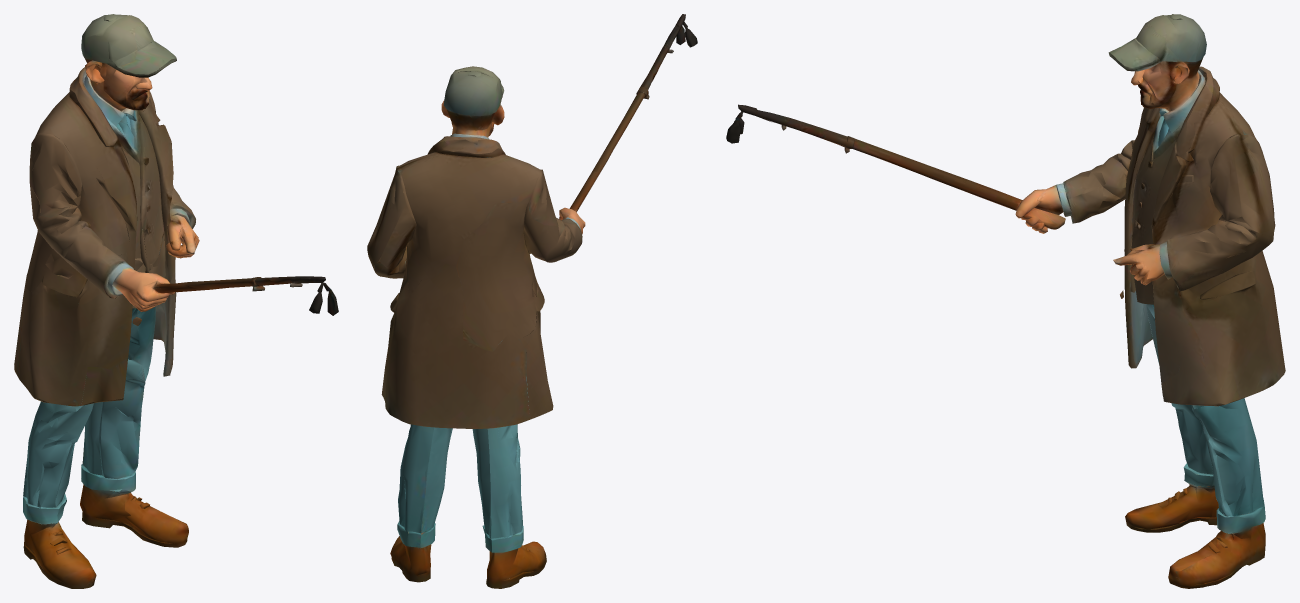
Rendered from base_basic_pbr.glb.
3 renders of one model, left to right at view 1: azimuth 30°, elevation 25°; view 2: azimuth 150°, elevation 25°; view 3: azimuth 270°, elevation 25°, orthographic. The views are drawn at different scales.
Parts seen in each view (by area): view 1: model; view 2: model; view 3: model.
Part boxes in pixels (x1,y1,x2,y2): model: [14, 14, 338, 588]; model: [367, 14, 697, 588]; model: [726, 14, 1285, 588].
Size of the model in its own units: 0.6111 by 1.9 by 1.8.
1 material, 1 textured.
